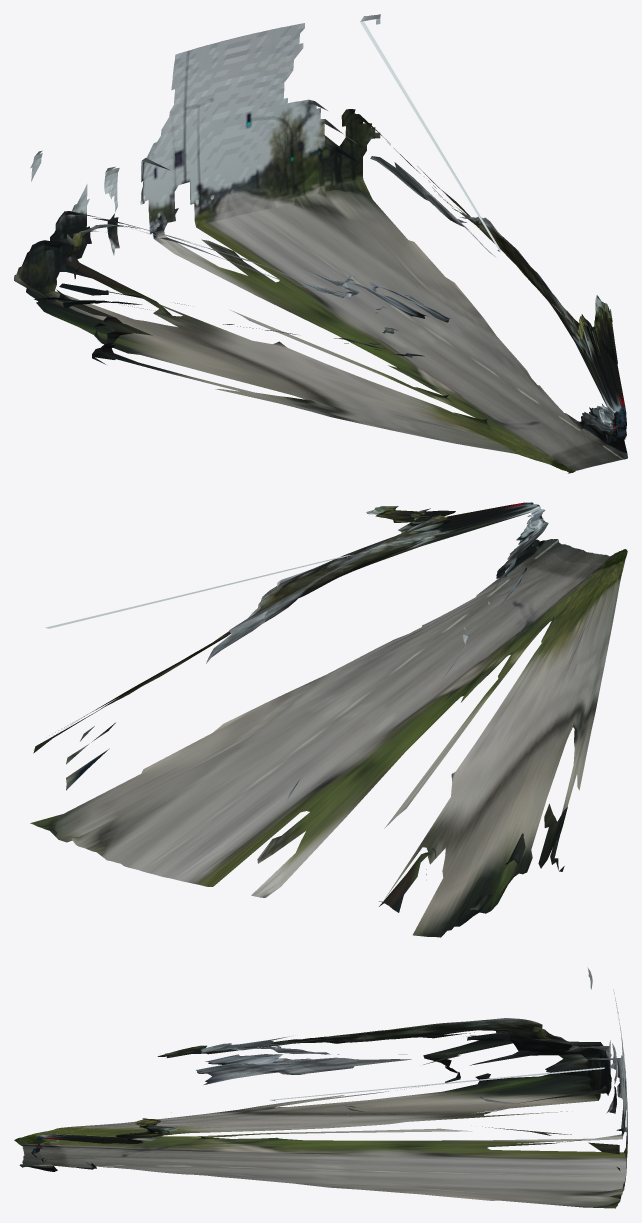
The picture shows the model from 3 angles, top to bottom: view 1: azimuth 30°, elevation 25°; view 2: azimuth 150°, elevation 25°; view 3: azimuth 270°, elevation 25°; orthographic projection. The views are drawn at different scales.
Parts seen in each view (by area): view 1: defaultobject; view 2: defaultobject; view 3: defaultobject.
Part boxes in pixels (x1,y1,x2,y2): defaultobject: (14,14,627,473); defaultobject: (30,502,627,937); defaultobject: (14,967,627,1208).
Size of the model in its own units: 28.3 by 13.44 by 45.16.
Materials: 1 (1 with a texture image).
